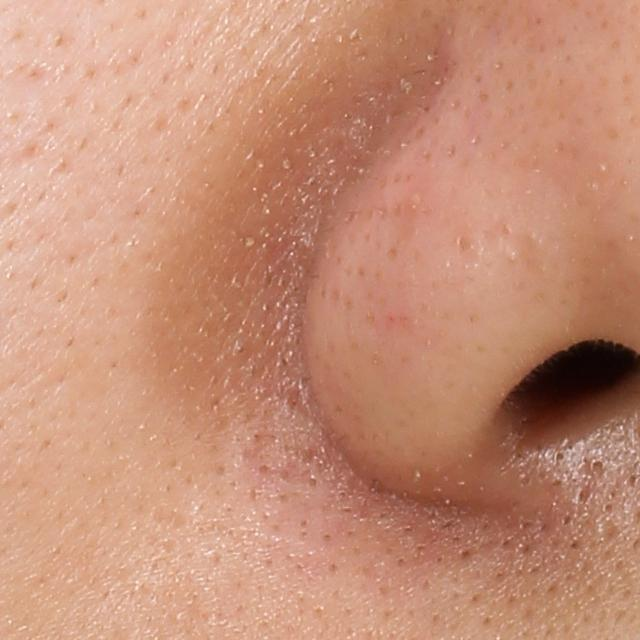comedo: (584, 451, 608, 476)
